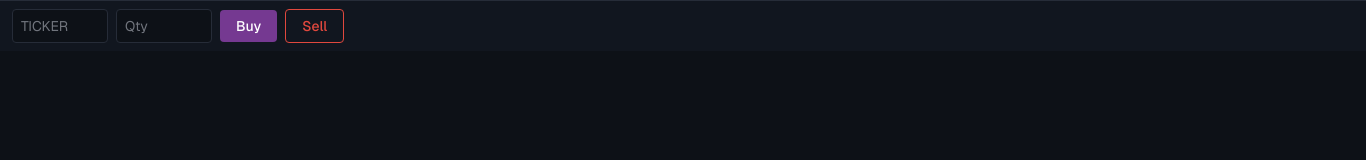
Test: TradeBar › shows a validation error when quantity is missing
In the field with placeholder "Ticker": (60, 26) [12,9,108,43], type "MSFT"
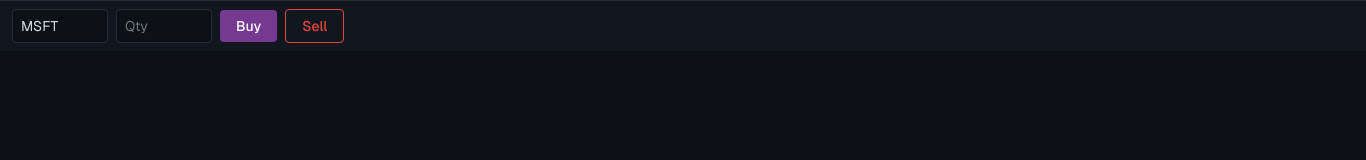
Click the button "Sell": click(315, 26) [285,9,344,43]
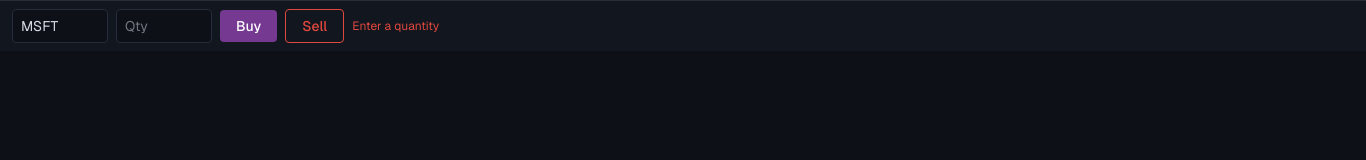
Expected: the text "Enter a quantity" is shown, [352,18,439,34]
